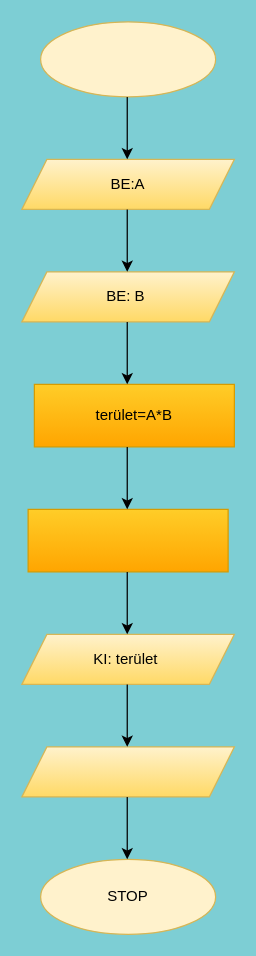
Some shapes in this 256 by 956 pixel diagram are drawn without their labels. Here are the shapes that lost their labels. From the top down, the centre of each, then its label:
At point 127,59: "START".
At point 127,540: "kerület=2*A+ 2*B".
At point 127,771: "KI: kerület".
